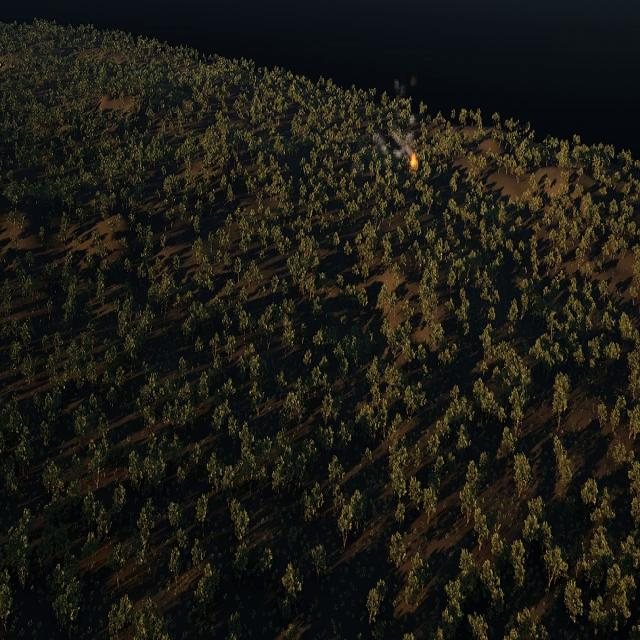fire: (411, 155, 419, 170)
smoke: (375, 114, 420, 160), (393, 74, 417, 96)
